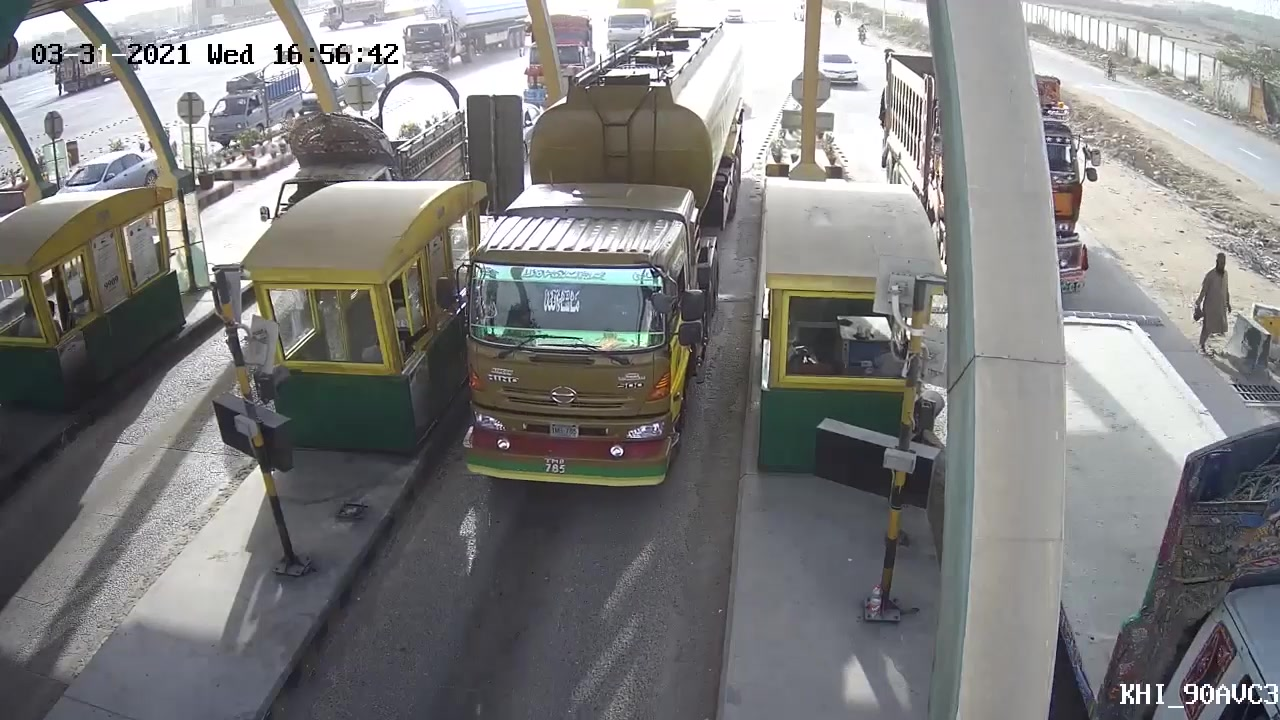F6: (443, 21, 750, 513)
